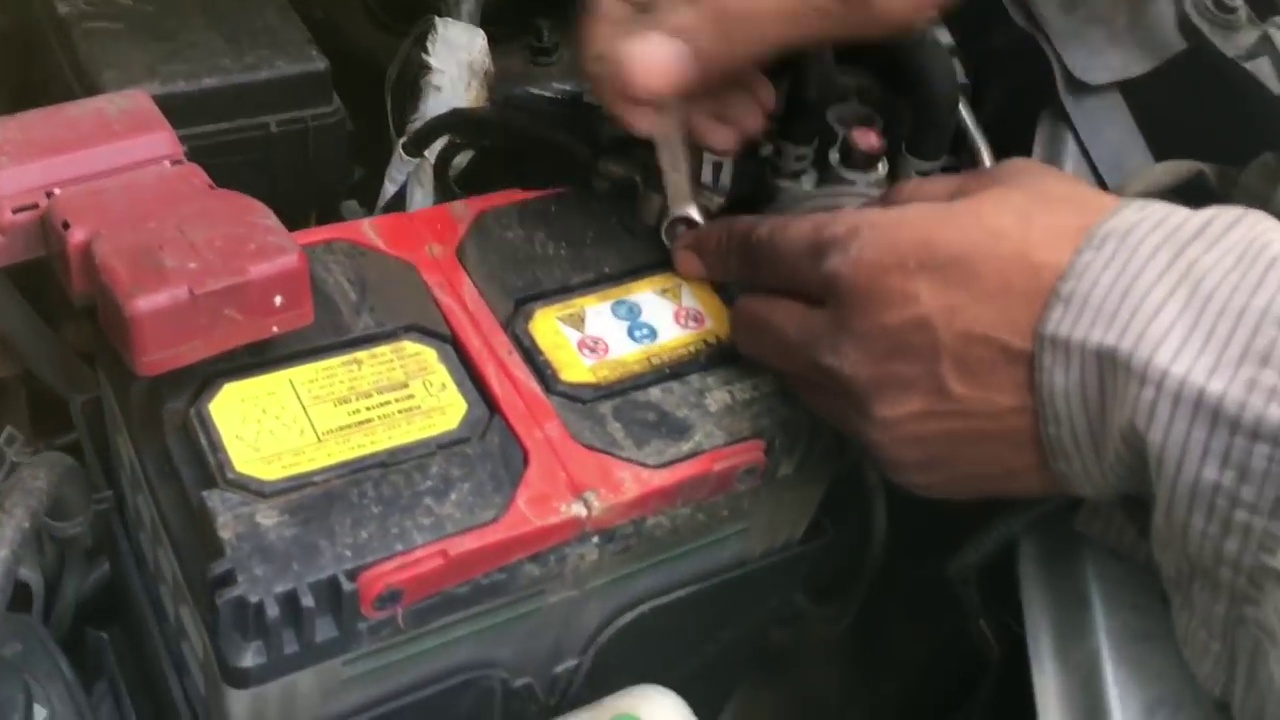battery: (59, 161, 845, 579)
neg_touched: (600, 102, 816, 314)
pos_connected: (42, 152, 308, 357)
